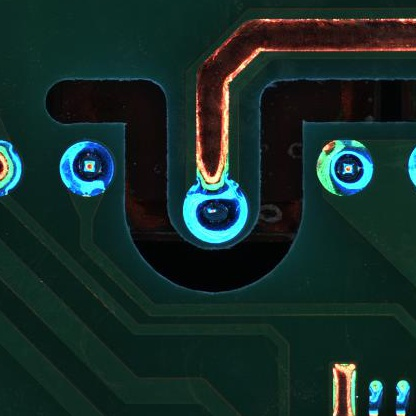spot: (183, 179, 249, 247), (315, 138, 374, 200), (59, 140, 118, 198)
